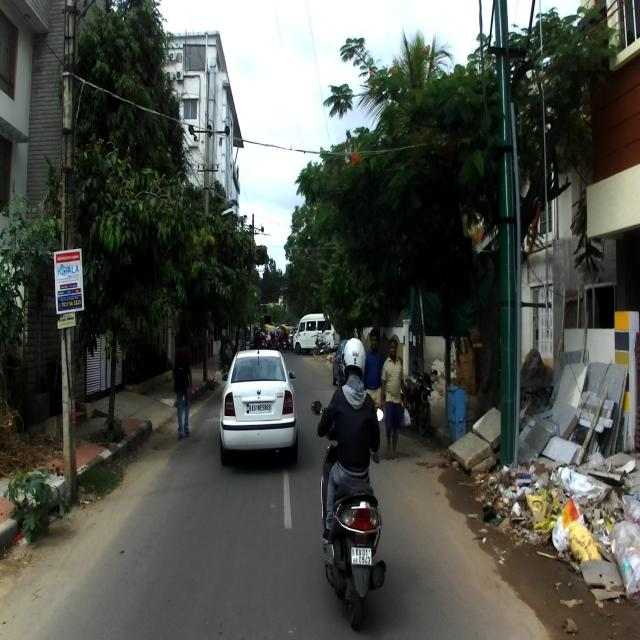car: (218, 341, 298, 464)
motorcycle: (399, 357, 438, 436)
scooter: (311, 399, 386, 629)
